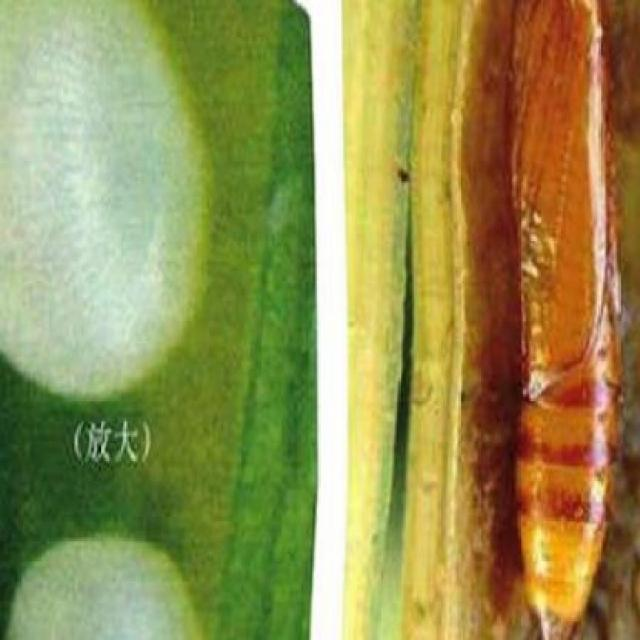whorl-maggot: (502, 0, 626, 640)
